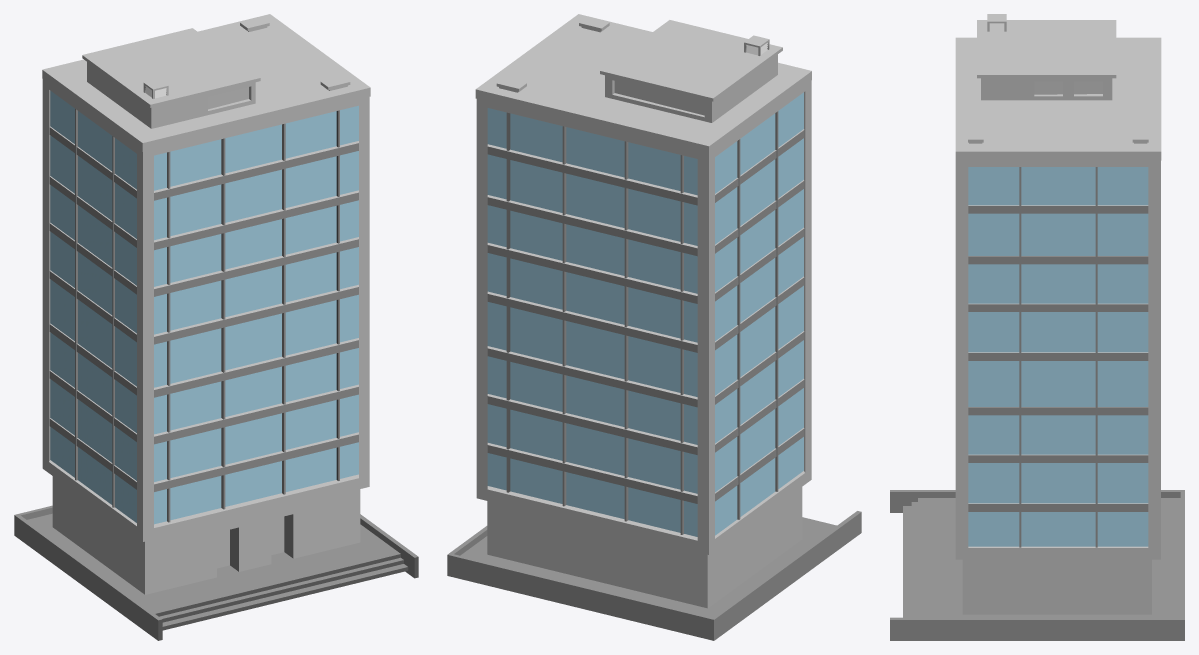
Rendered from business_center_003.fbx.
The picture shows the model from 3 angles, left to right: view 1: azimuth 30°, elevation 25°; view 2: azimuth 150°, elevation 25°; view 3: azimuth 270°, elevation 25°; orthographic projection. The views are drawn at different scales.
Visible parts, largest first — view 1: business_center_003; view 2: business_center_003; view 3: business_center_003.
Boxes of the visible parts, left/top/right/bottom form: business_center_003: left=14, top=14, right=418, bottom=640; business_center_003: left=447, top=14, right=861, bottom=640; business_center_003: left=890, top=14, right=1184, bottom=640.
Size of the model in its own units: 1444 by 2682 by 1384.
